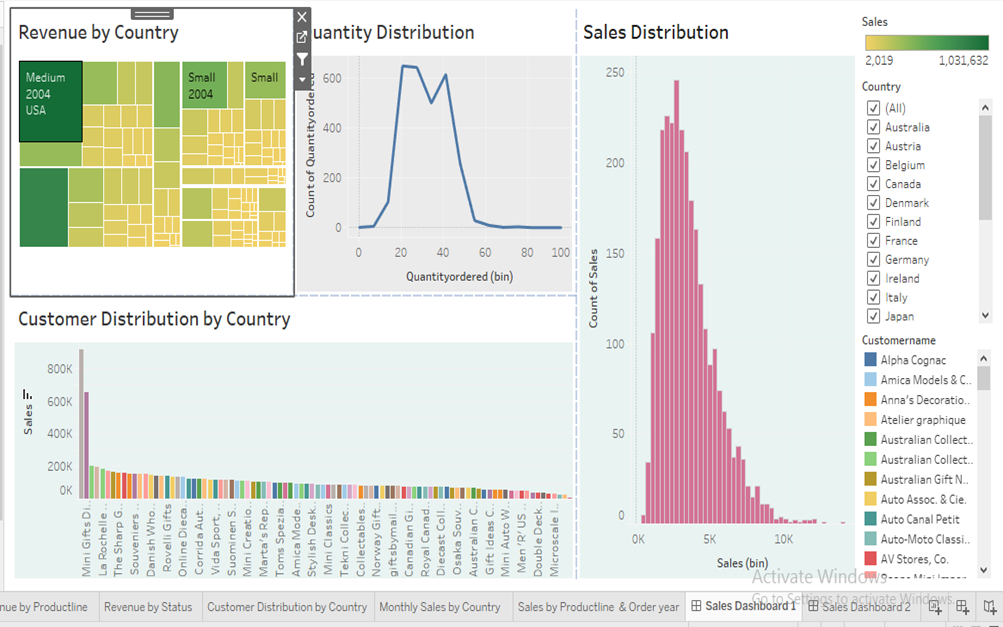

The page's visual inventory and layout, read from the dashboard file:
{"tool":"tableau","page":{"name":"Sales Dashboard 1","canvas":[1000,1000],"units":"permille","ordinal":0},"visuals":[{"type":"worksheet","title":"Revenue by Country","mark":"Automatic","box":[6.9,13.5,352,511.8]},{"type":"worksheet","title":"Quantity Distribution","mark":"Line","rows":["QUANTITYORDERED"],"cols":["Quantityordered (bin)"],"box":[358.9,13.5,215.4,511.8]},{"type":"worksheet","title":"Sales Distribution","mark":"Automatic","rows":["SALES"],"cols":["Sales (bin)"],"box":[574.3,13.5,280.2,973]},{"type":"legend","title":"Revenue by Country","param":"[federated.1jkcy2u0u6a9jw157zj5j0occhv6].[sum:SALES:qk]","box":[854.5,13.5,138.5,109.8]},{"type":"filter","title":"Customer Distribution by Country","param":"[federated.1jkcy2u0u6a9jw157zj5j0occhv6].[none:COUNTRY:nk]","box":[854.5,123.3,138.5,431.6]},{"type":"worksheet","title":"Customer Distribution by Country","mark":"Automatic","rows":["SALES"],"cols":["CUSTOMERNAME"],"box":[6.9,525.3,567.4,461.2]},{"type":"legend","title":"Customer Distribution by Country","param":"[federated.1jkcy2u0u6a9jw157zj5j0occhv6].[none:CUSTOMERNAME:nk]","box":[854.5,554.9,138.5,431.6]}]}

Visuals, with their boxes on the dashboard's canvas, which has no fixed pixel size, in thousandths of its width and height (x1, y1, x2, y2). These are canvas units, not pixel positions in the 1003x627 screenshot, which may show the page scaled, cropped or inside an application window:
"Revenue by Country" worksheet: select_region(7, 14, 359, 525)
"Quantity Distribution" worksheet (Line marks): select_region(359, 14, 574, 525)
"Sales Distribution" worksheet: select_region(574, 14, 854, 986)
"Revenue by Country" legend: select_region(854, 14, 993, 123)
"Customer Distribution by Country" filter: select_region(854, 123, 993, 555)
"Customer Distribution by Country" worksheet: select_region(7, 525, 574, 986)
"Customer Distribution by Country" legend: select_region(854, 555, 993, 986)
